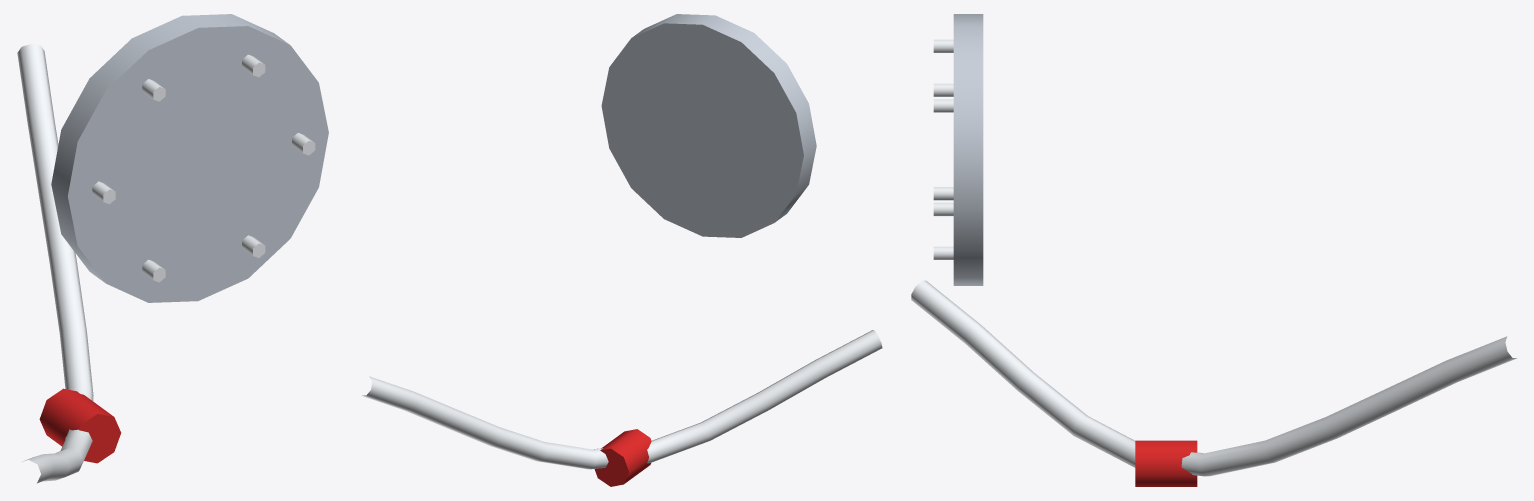
File: clutch_inspection_slave.glb
3 renders of one model, left to right at view 1: azimuth 30°, elevation 25°; view 2: azimuth 150°, elevation 25°; view 3: azimuth 270°, elevation 25°, orthographic. The views are drawn at different scales.
Parts seen in each view (by area): view 1: Clutch_Inspection_Slave_Line_Assembly; view 2: Clutch_Inspection_Slave_Line_Assembly; view 3: Clutch_Inspection_Slave_Line_Assembly.
Part boxes in pixels (x1,y1,x2,y2): Clutch_Inspection_Slave_Line_Assembly: (17, 14, 328, 483); Clutch_Inspection_Slave_Line_Assembly: (362, 14, 882, 486); Clutch_Inspection_Slave_Line_Assembly: (911, 14, 1517, 486).
Size of the model in its own units: 0.1485 by 0.205 by 0.246.
